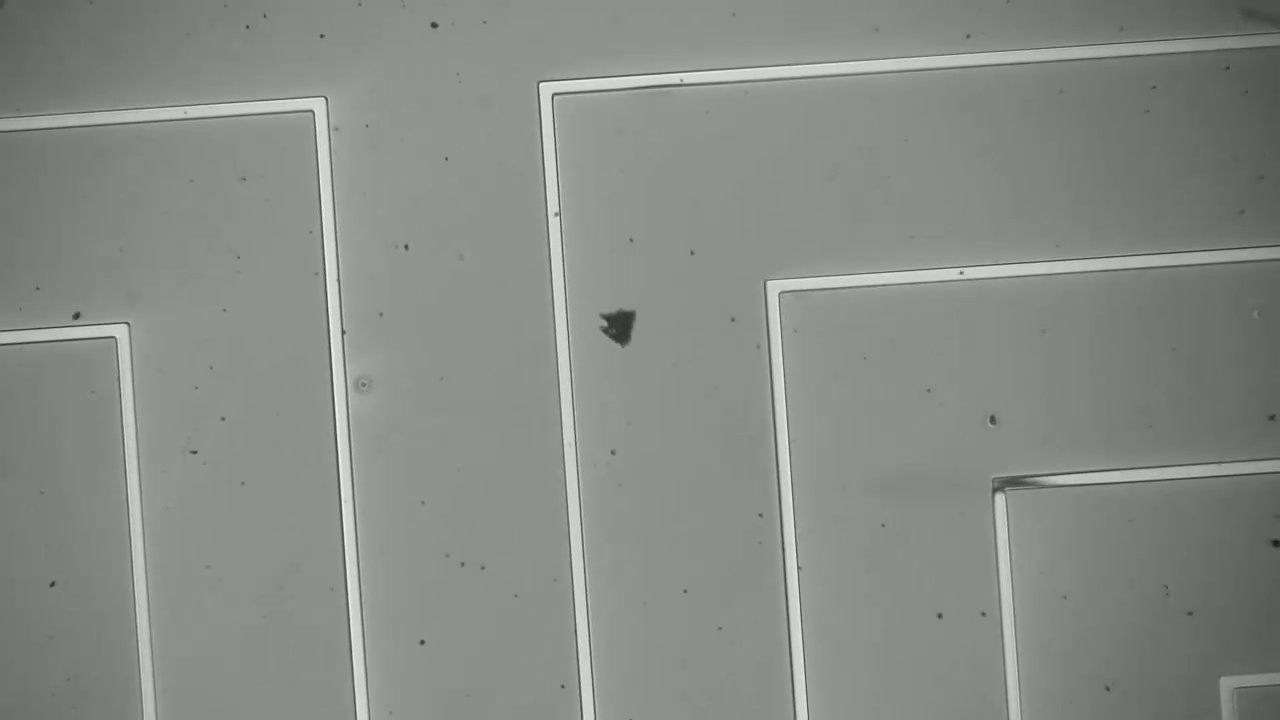gray_line: (980, 457, 1070, 504)
